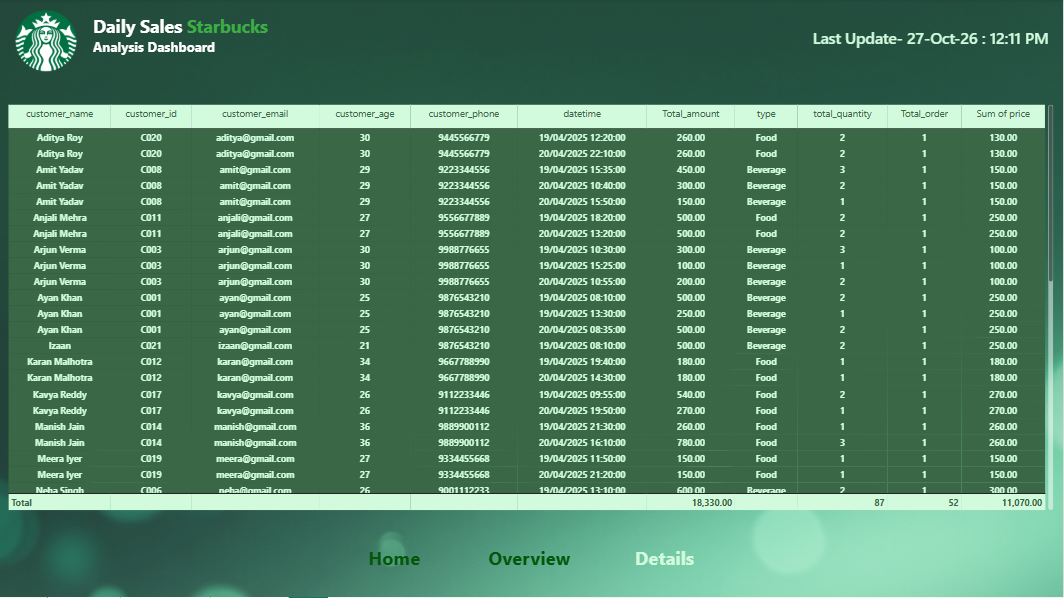

What the dashboard file says about the page in this screenshot:
{"tool":"powerbi","page":{"name":"Details","canvas":[1920,1080],"ordinal":2},"visuals":[{"type":"image","box":[0,14.5,169.3,121.8],"z":0},{"type":"textbox","box":[169.3,26.8,361.3,109.4],"z":1000},{"type":"cardVisual","fields":{"Data":["_measure.max_date_format"]},"box":[1453.4,14.5,466.6,111.5],"z":2000},{"type":"tableEx","fields":{"Values":["customers.customer_name","customers.customer_id","customers.customer_email","customers.customer_age","customers.customer_phone","sales.datetime","_measure.Total_amount","items.type","_measure.total_quantity","_measure.Total_order","Sum(sales.price)"]},"box":[0,177.5,1920,761.8],"z":3000},{"type":"pageNavigator","box":[596.6,939.4,724.6,140.4],"z":3001}]}

Visuals, with their boxes in screenshot pixels (x1, y1, x2, y2), scaled from the page's 1920x1080 canvas onto the 1064x598 screenshot:
image: x1=0, y1=8, x2=94, y2=75
textbox: x1=94, y1=15, x2=294, y2=75
cardVisual - _measure.max_date_format: x1=805, y1=8, x2=1063, y2=70
tableEx - customers.customer_name x customers.customer_id: x1=0, y1=98, x2=1063, y2=520
pageNavigator: x1=331, y1=520, x2=732, y2=597
